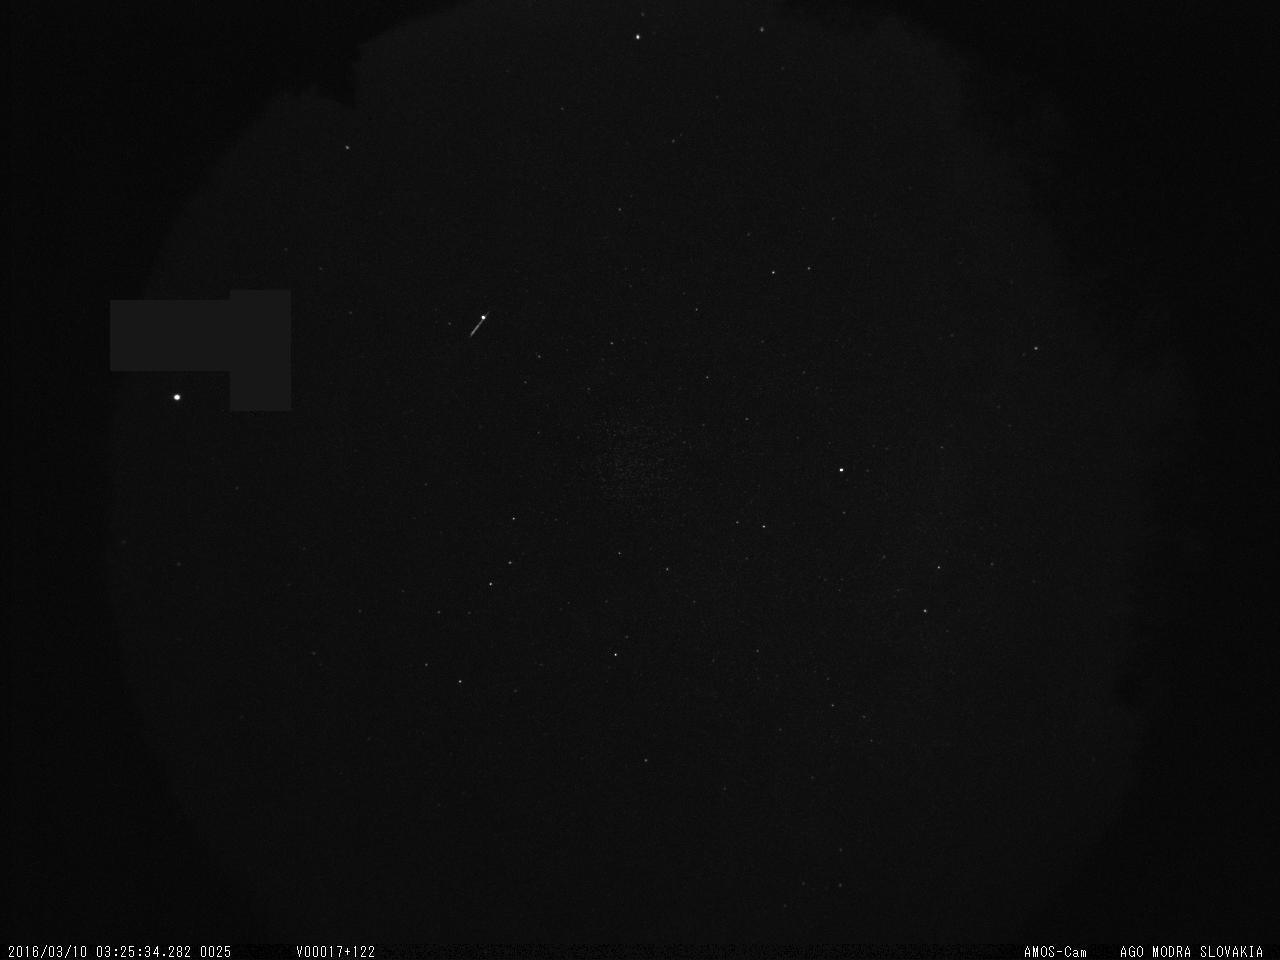meteor: (464, 307, 495, 340)
